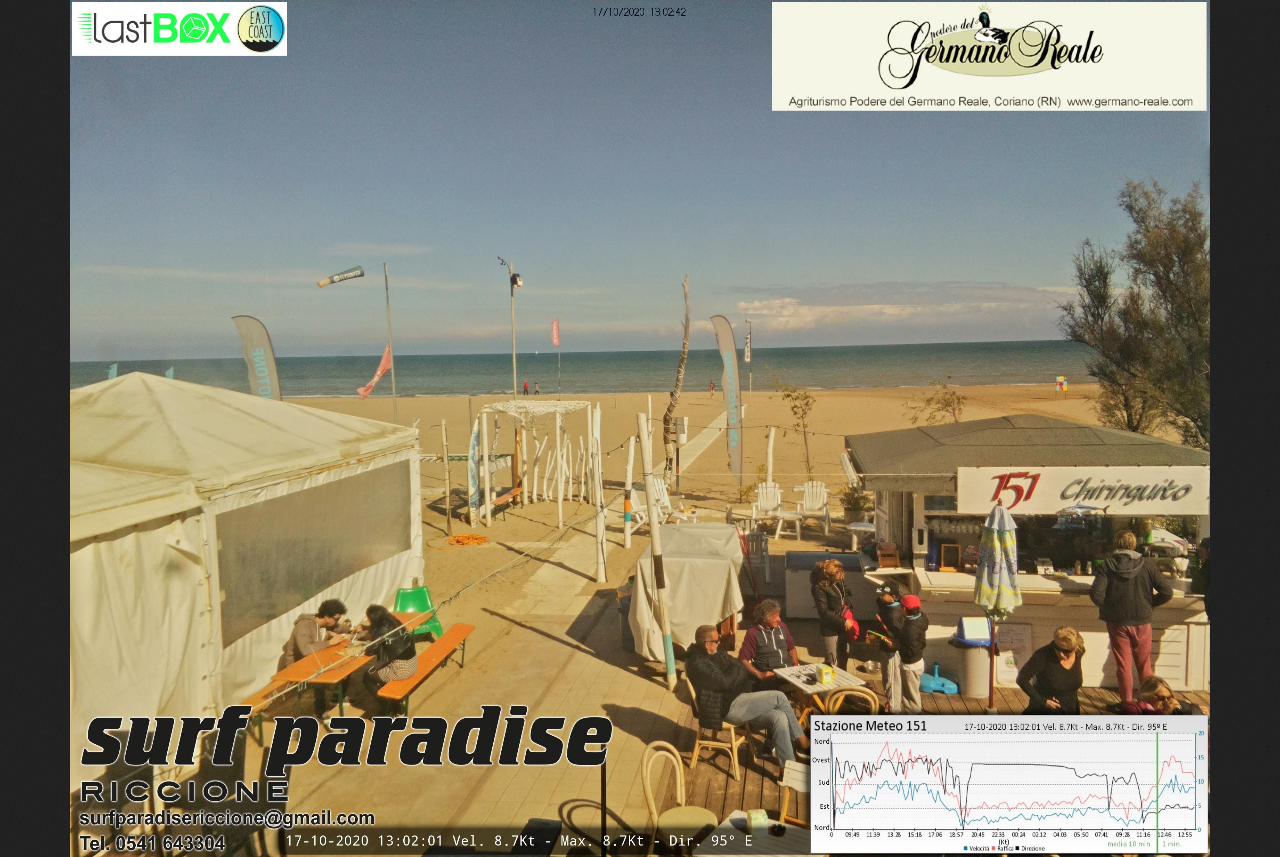maybe: (353, 337, 396, 405)
yes: (546, 312, 564, 353)
